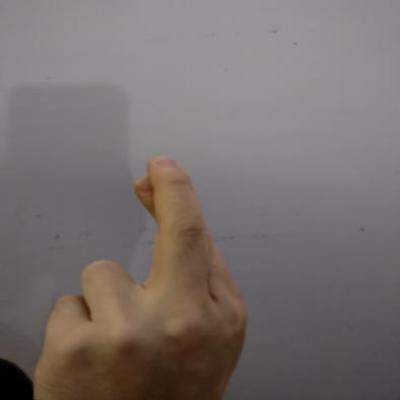hand: (25, 147, 261, 399)
